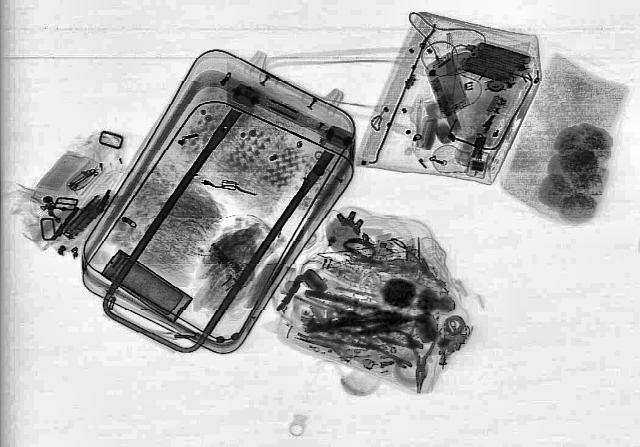Pliers: (404, 322, 438, 394)
Wrench: (353, 338, 415, 370)
